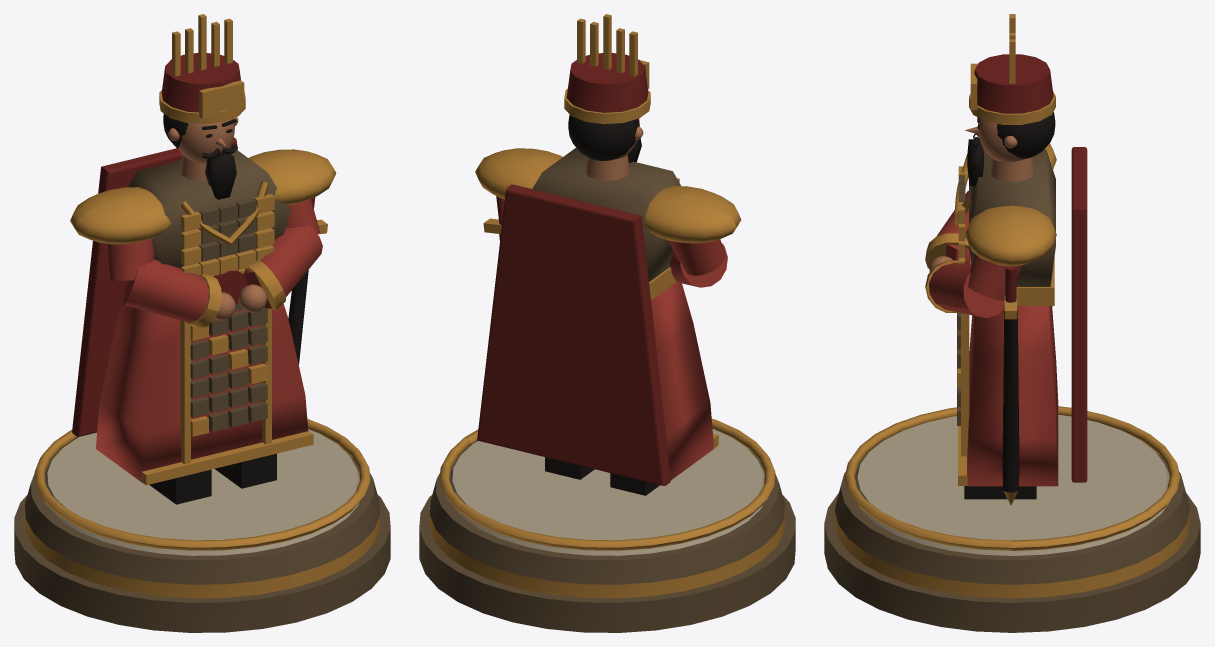
The model's file is red-marshal-web.glb.
3 views of the same model, side by side, from view 1: azimuth 30°, elevation 25°; view 2: azimuth 150°, elevation 25°; view 3: azimuth 270°, elevation 25° (orthographic).
Parts seen in each view (by area): view 1: Base stone top, Tailored lower robe, Base lower, Base upper, Cape, Tailored armored torso, Base rim, Base gold reveal, Shoulder L, Forearm sleeve L, Shoulder R, Forearm sleeve R (+17 smaller); view 2: Cape, Base stone top, Base lower, Base upper, Tailored lower robe, Tailored armored torso, Base rim, Base gold reveal, Shoulder L, Crown body, Shoulder R, Hair cap (+6 smaller); view 3: Base stone top, Base lower, Tailored lower robe, Base upper, Base rim, Cape, Base gold reveal, Tailored armored torso, Shoulder R, Crown body, Sword sheath, Forearm sleeve R (+11 smaller).
Boxes of the visible parts, <box> form: Base stone top: <box>45,429,359,555</box>; Tailored lower robe: <box>96,300,308,482</box>; Base lower: <box>14,495,390,632</box>; Base upper: <box>25,446,380,584</box>; Cape: <box>72,137,237,436</box>; Tailored armored torso: <box>128,148,290,269</box>; Base rim: <box>34,419,370,550</box>; Base gold reveal: <box>24,505,380,598</box>; Shoulder L: <box>70,187,171,244</box>; Forearm sleeve L: <box>123,259,208,322</box>; Shoulder R: <box>248,149,336,205</box>; Forearm sleeve R: <box>243,225,322,308</box>; Cape: <box>477,184,670,485</box>; Base stone top: <box>450,429,764,555</box>; Base lower: <box>419,495,795,632</box>; Base upper: <box>429,446,784,584</box>; Tailored lower robe: <box>651,281,713,480</box>; Tailored armored torso: <box>532,147,680,281</box>; Base rim: <box>439,418,775,550</box>; Base gold reveal: <box>429,505,785,598</box>; Shoulder L: <box>643,186,741,243</box>; Crown body: <box>566,53,648,112</box>; Shoulder R: <box>475,148,562,199</box>; Hair cap: <box>568,114,638,160</box>; Base stone top: <box>854,414,1170,555</box>; Base lower: <box>824,493,1200,632</box>; Tailored lower robe: <box>967,306,1058,486</box>; Base upper: <box>835,444,1189,584</box>; Base rim: <box>844,406,1180,550</box>; Cape: <box>1071,147,1087,482</box>; Base gold reveal: <box>834,510,1190,598</box>; Tailored armored torso: <box>969,149,1055,286</box>; Shoulder R: <box>965,205,1056,266</box>; Crown body: <box>974,54,1053,113</box>; Sword sheath: <box>1002,306,1019,492</box>; Forearm sleeve R: <box>929,263,1004,317</box>.
Size of the model in its own units: 2.5 by 3.93 by 2.5.
